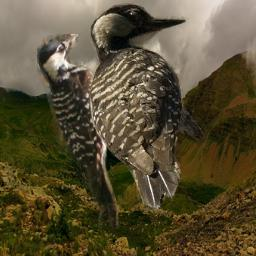Woodpecker: (89, 2, 212, 215), (37, 34, 137, 230)
